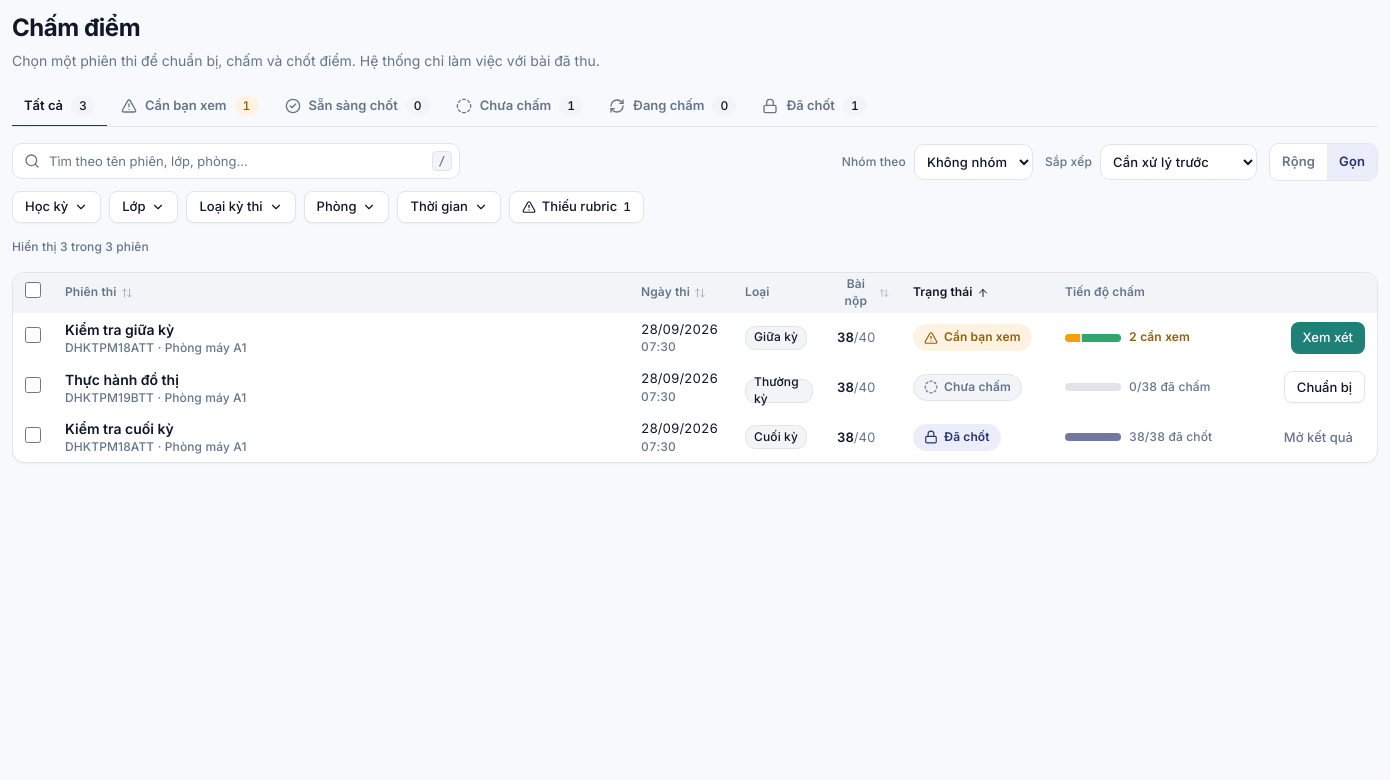
Test case: SessionList — bulk bar › "Bỏ chọn" clears the selection
Step 1. Click the checkbox named "Chọn phiên Kiểm tra giữa kỳ" → {"x": 33, "y": 335}, box [25, 327, 41, 343]
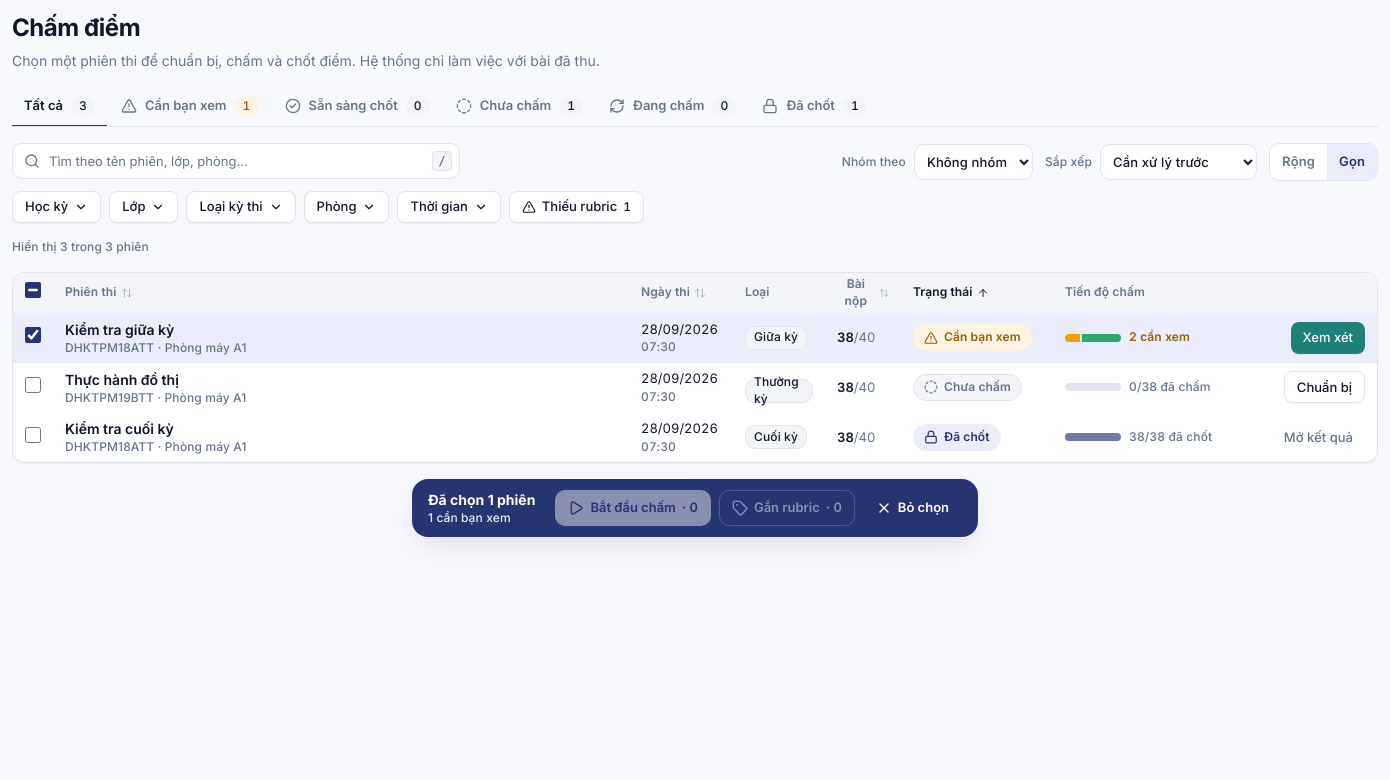
Step 2. Click the button "Bỏ chọn" → {"x": 912, "y": 508}, box [863, 490, 962, 526]
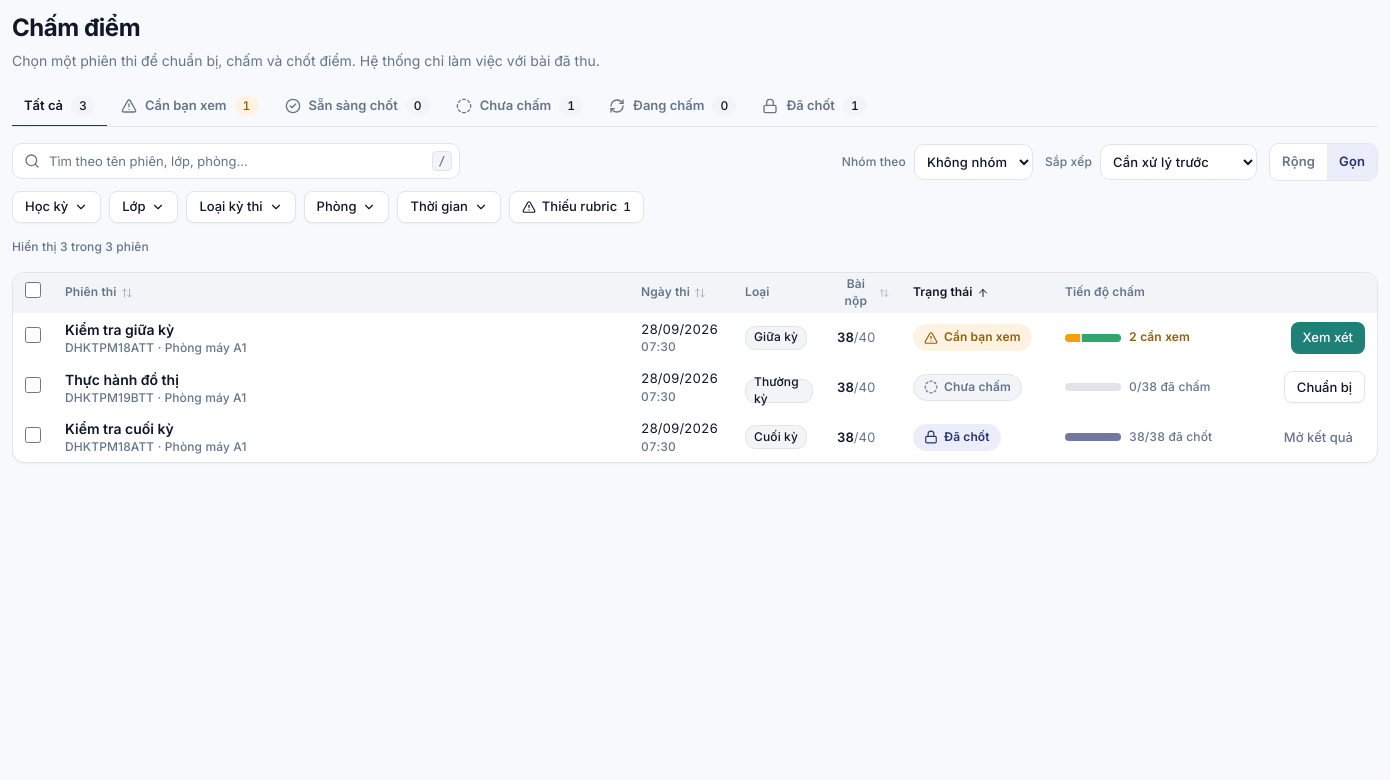
Result: the text "Đã chọn" is gone
